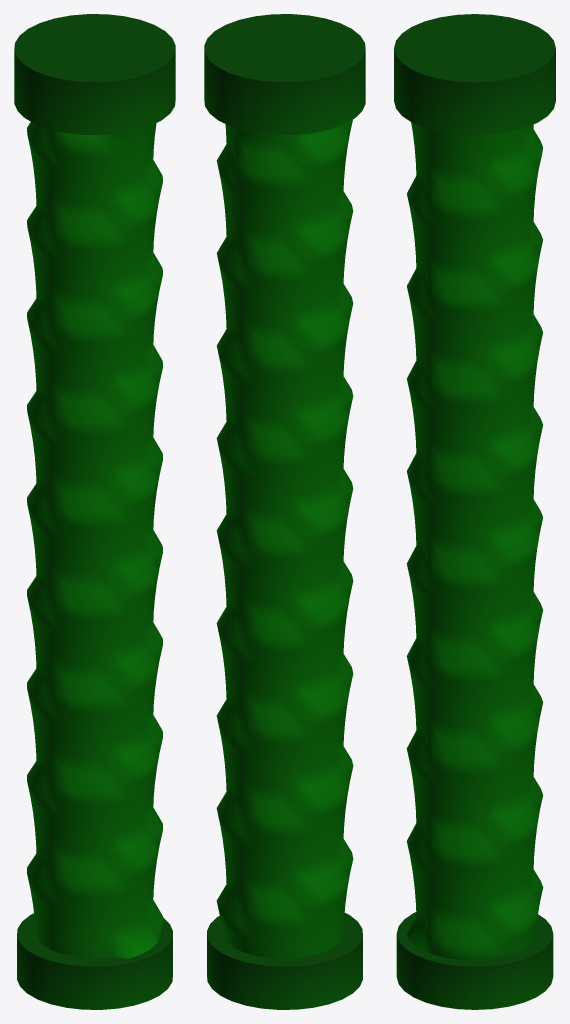
File: shrine_column_whorl.glb
The picture shows the model from 3 angles, left to right: view 1: azimuth 30°, elevation 25°; view 2: azimuth 150°, elevation 25°; view 3: azimuth 270°, elevation 25°; orthographic projection.
Parts seen in each view (by area): view 1: shrine_column_whorl; view 2: shrine_column_whorl; view 3: shrine_column_whorl.
Part boxes in pixels (box(x1,y1,x2,y2)): shrine_column_whorl: box(14, 14, 175, 1009); shrine_column_whorl: box(204, 14, 365, 1009); shrine_column_whorl: box(394, 14, 555, 1009).
Size of what is drawn, in the model's own units: 0.61 by 3.86 by 0.61.
